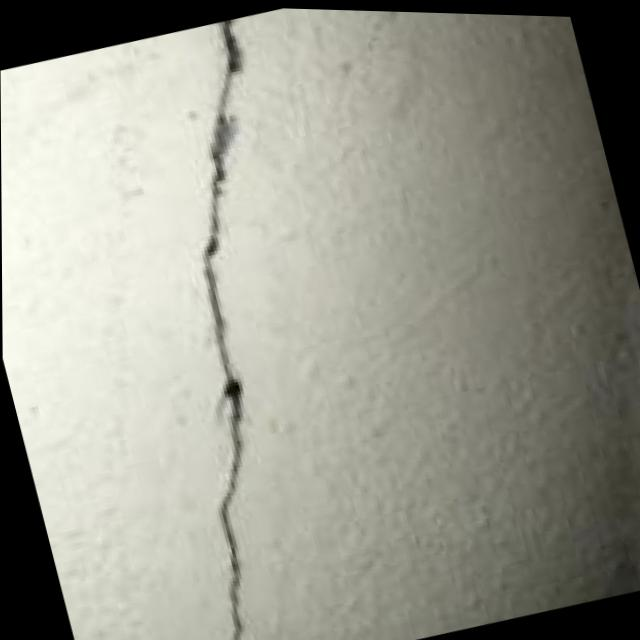Crack: (41, 8, 411, 640)
